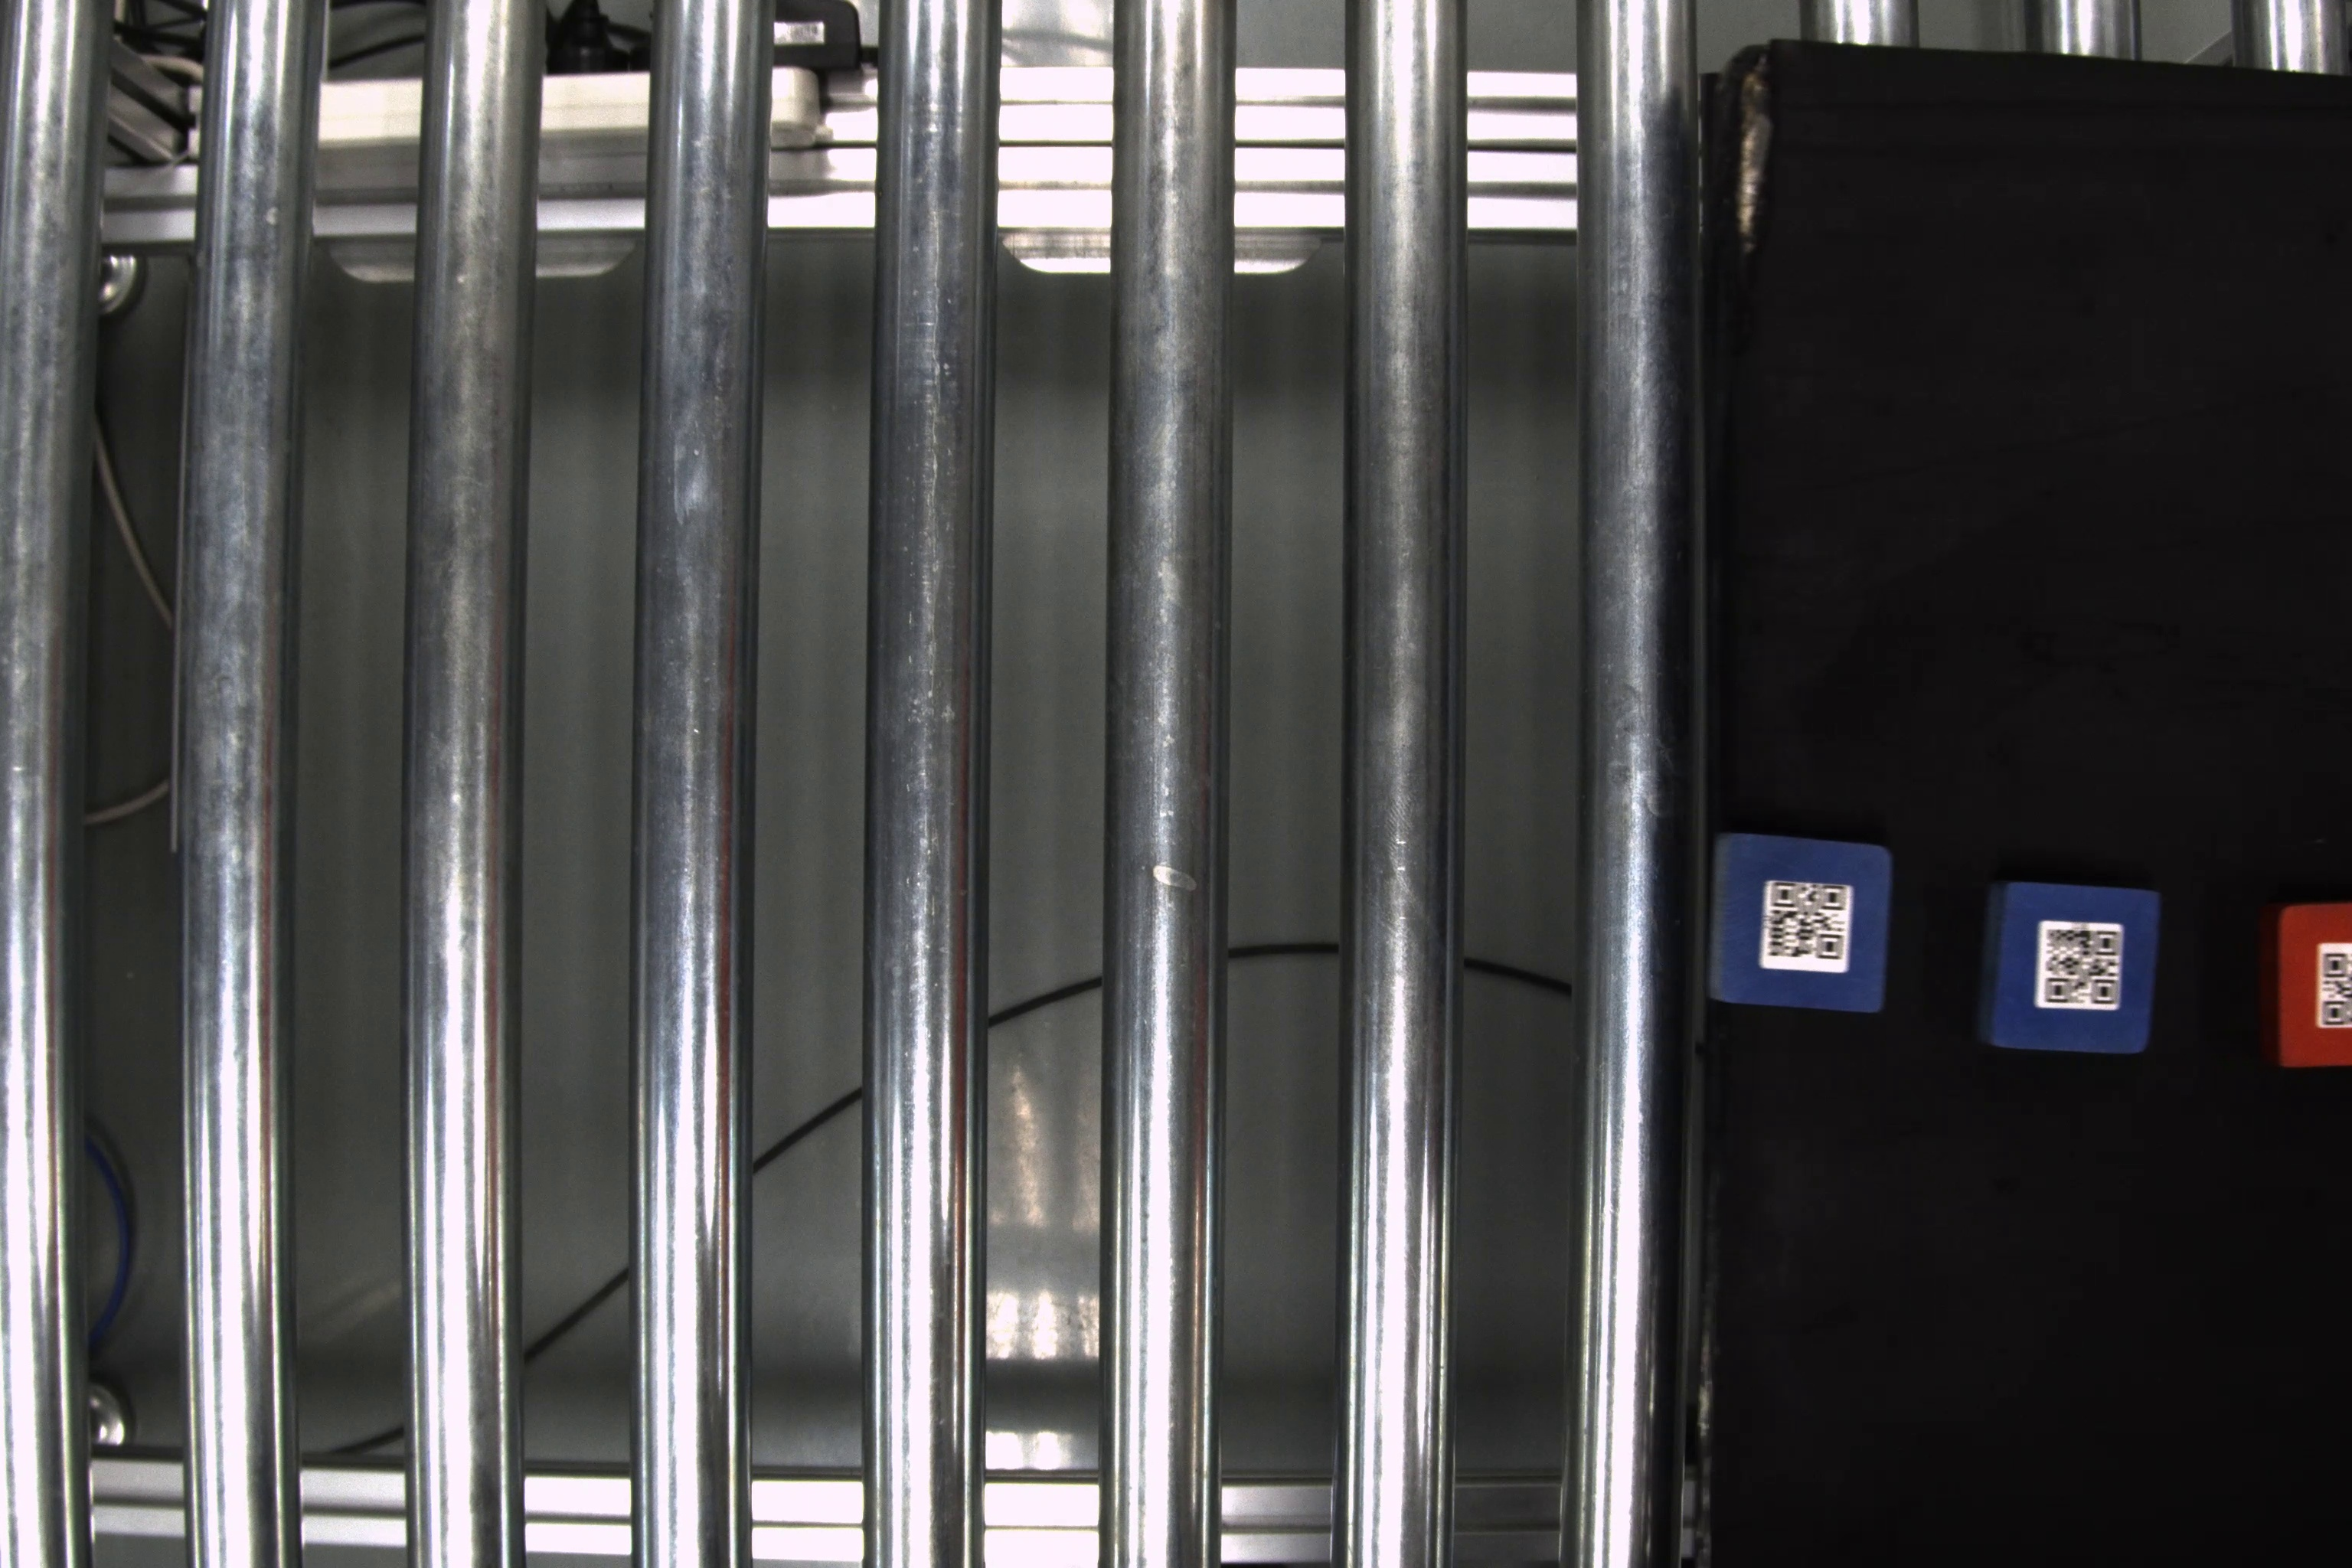wood: (1704, 829, 1895, 1017), (1972, 875, 2161, 1062), (2268, 896, 2352, 1076)
